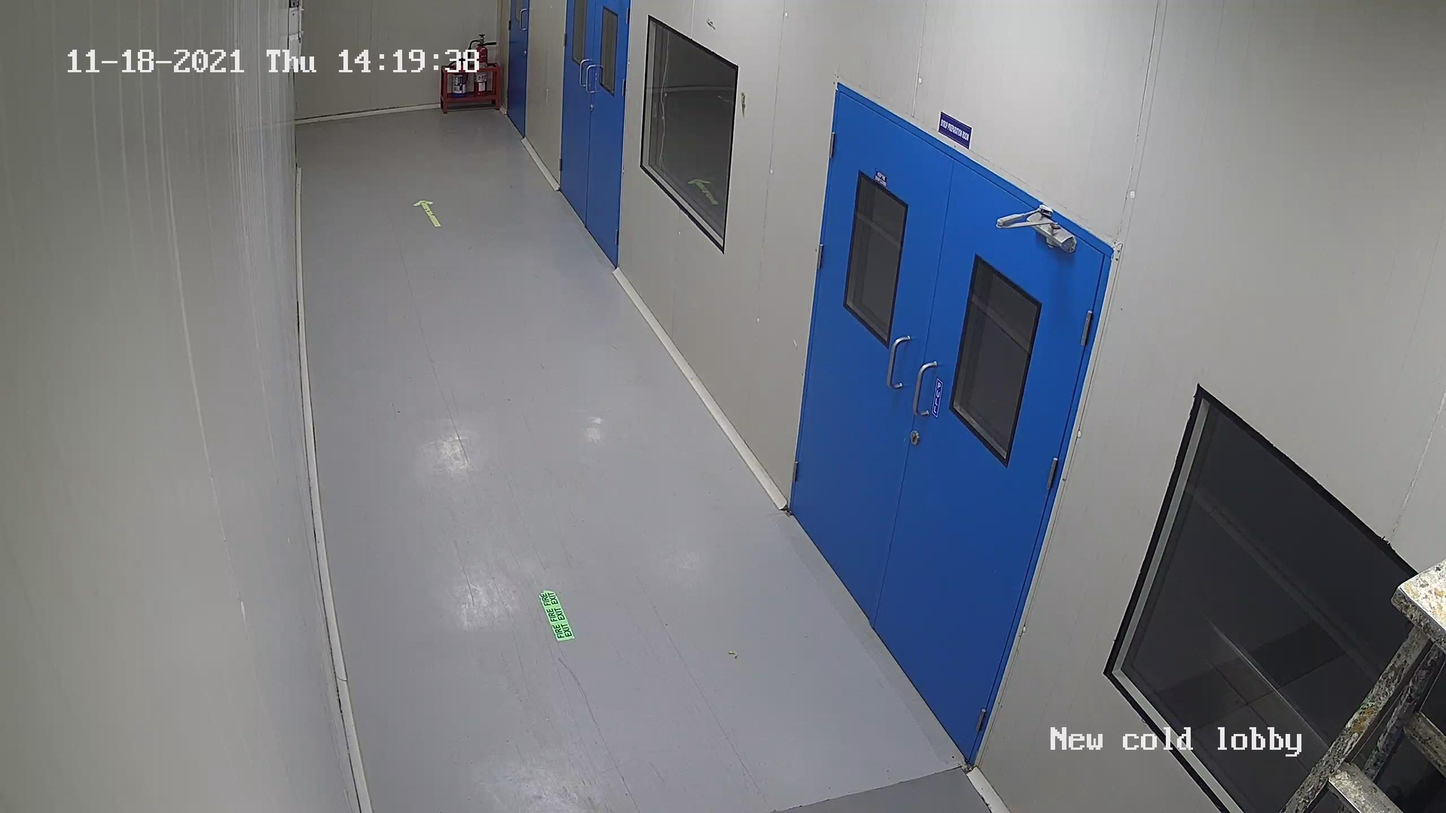lizard: (737, 87, 749, 119), (703, 17, 717, 32)
